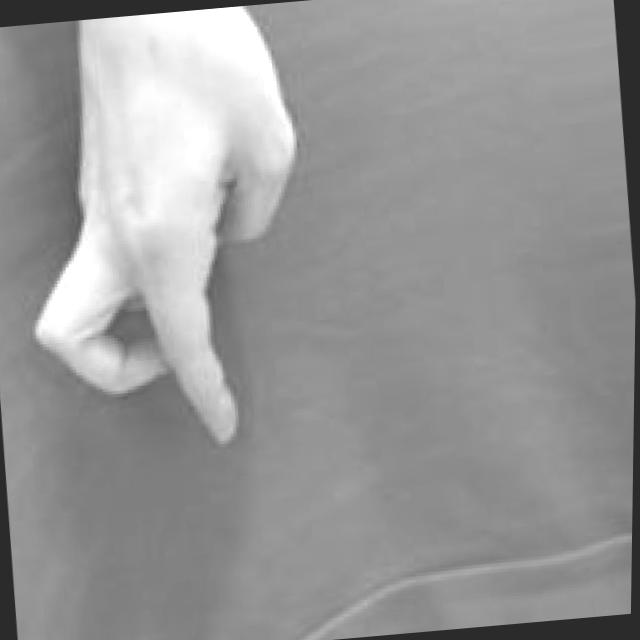P: (0, 1, 336, 457)
